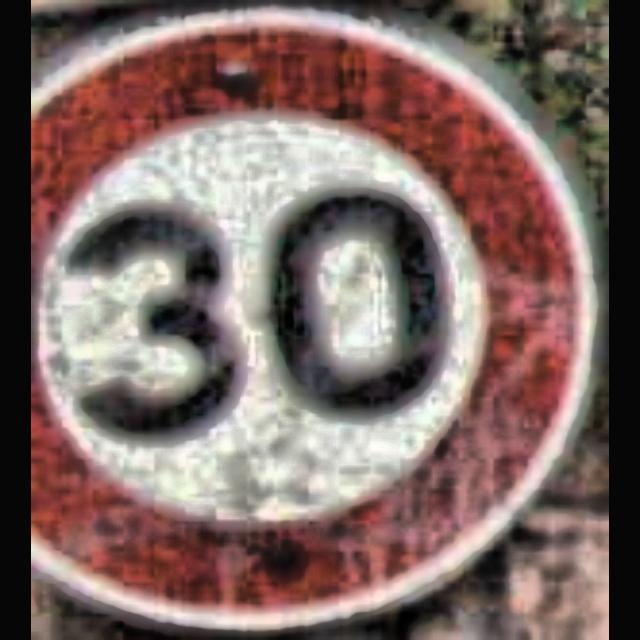speed_30: (31, 11, 601, 622)
